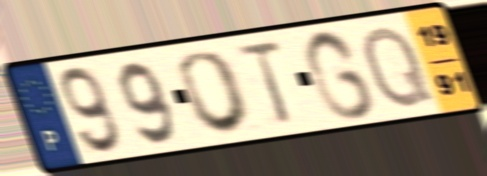9: (53, 65, 127, 156), (114, 57, 179, 147)
G: (300, 26, 379, 123)
O: (174, 47, 257, 136)
Q: (359, 22, 437, 112)
T: (232, 37, 296, 129)
